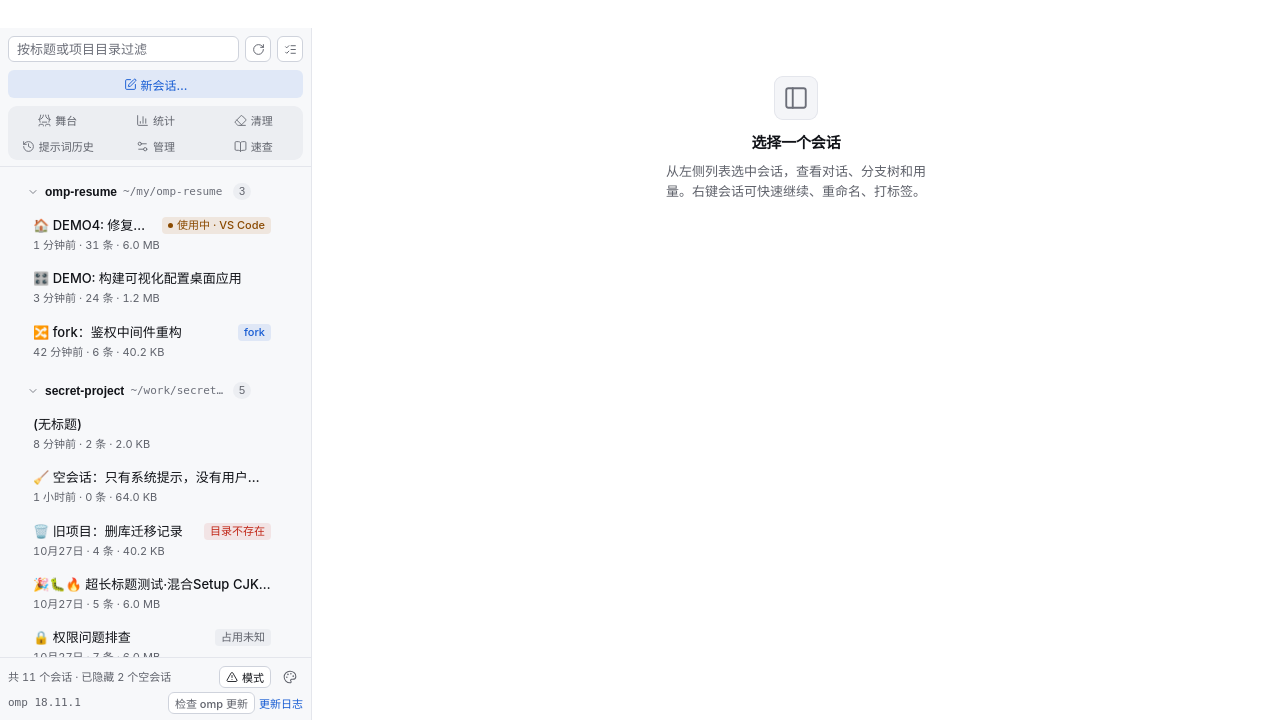
Test: 列表：过滤与跨刷新保持 › 过滤框按标题/cwd/首条用户消息匹配，空组隐藏
The width and height of the screenshot is (1280, 720).
Check: the text "🎛️ DEMO: 构建可视化配置桌面应用" is shown, box x1=33 y1=269 x2=271 y2=288
Type "demo3" into the search field with placeholder "按标题或项目目录过滤" at (124, 49), box x1=8 y1=36 x2=239 y2=62
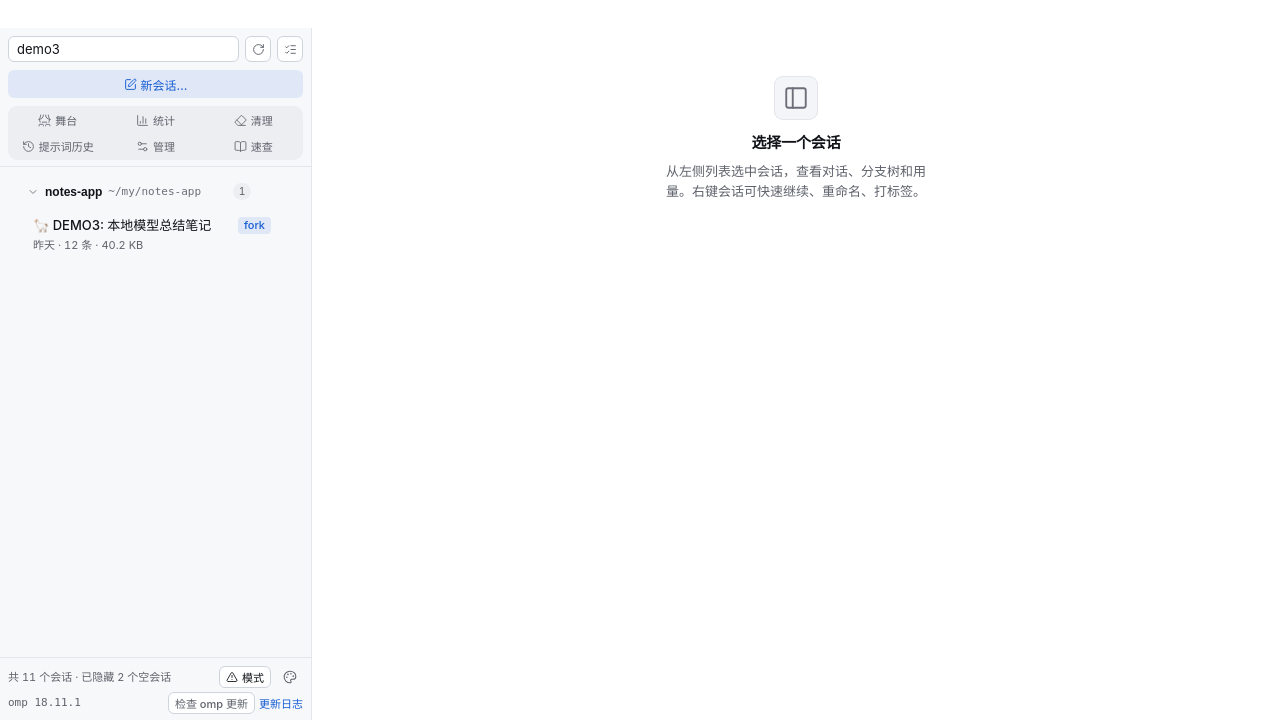
Check: the element showing "🦙 DEMO3: 本地模型总结笔记 fork 昨天 · 12 条 · 40.2 KB" is shown, box x1=33 y1=217 x2=271 y2=252
Check: the text "🎛️ DEMO: 构建可视化配置桌面应用" is gone
Replace the text in the search field named "过滤会话" with "notes" at (124, 49), box x1=8 y1=36 x2=239 y2=62
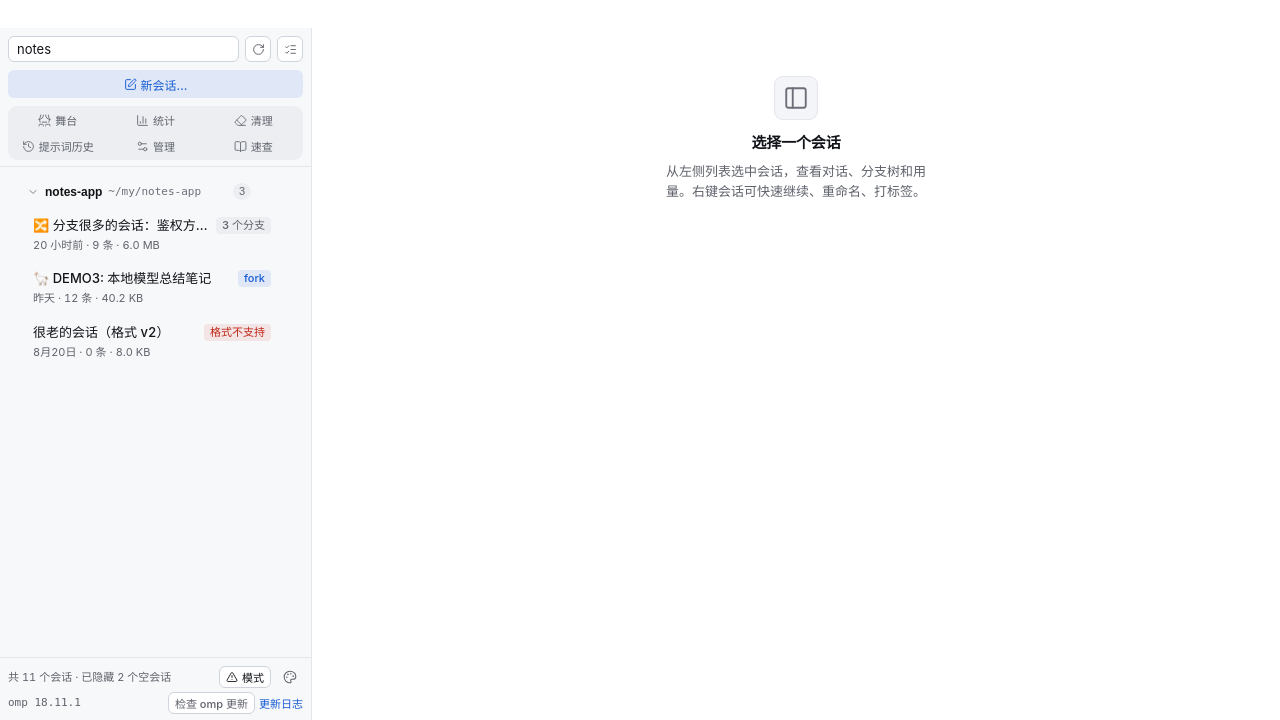
Check: the text "🎛️ DEMO: 构建可视化配置桌面应用" is not shown
Check: the element showing "🦙 DEMO3: 本地模型总结笔记 fork 昨天 · 12 条 · 40.2 KB" is shown, box x1=33 y1=270 x2=271 y2=305
Check: the element showing "🔀 分支很多的会话：鉴权方案 A/B 对比 3 个分支 20 小时前 · 9 条 · 6.0 MB" is shown, box x1=33 y1=217 x2=271 y2=252
首条用户消息命中
Replace the text in the search field named "过滤会话" with "删库前先备份" at (124, 49), box x1=8 y1=36 x2=239 y2=62
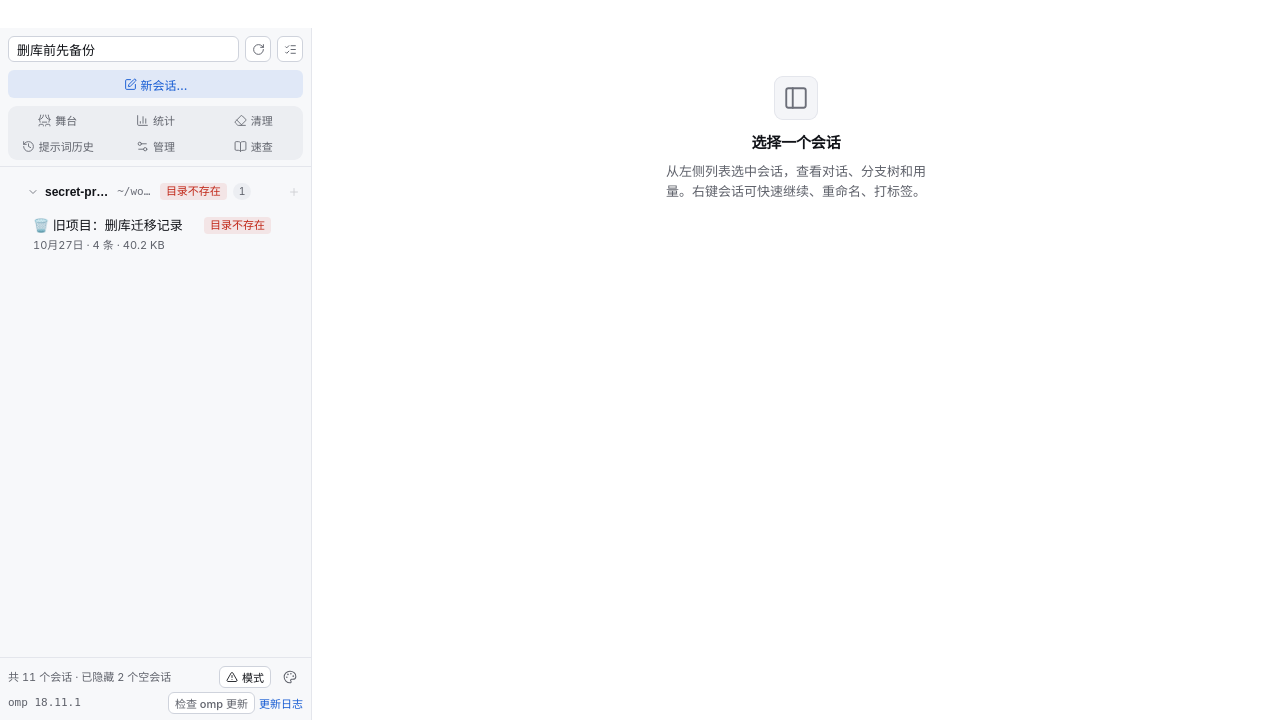
Check: the element showing "🗑️ 旧项目：删库迁移记录 目录不存在 10月27日 · 4 条 · 40.2 KB" is shown, box x1=33 y1=217 x2=271 y2=252
Check: the text "🦙 DEMO3: 本地模型总结笔记" is gone
